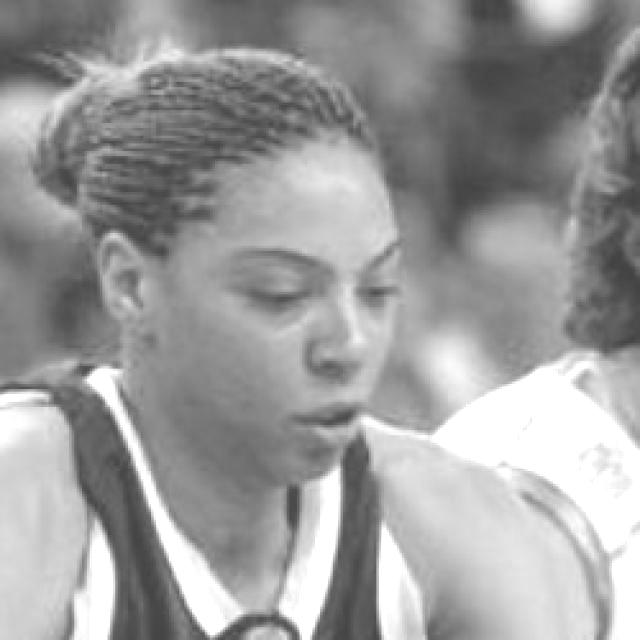real: (90, 68, 420, 478), (239, 266, 397, 314)
